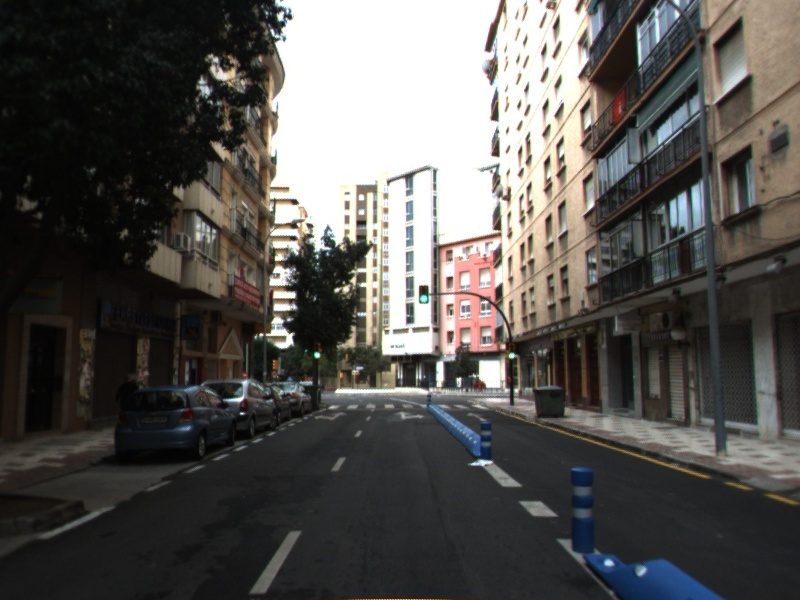STRAIGHT: (465, 411, 488, 423)
STRAIGHT_LEFT: (312, 410, 348, 422)
STRAIGHT_RIGHT: (393, 409, 426, 421)
